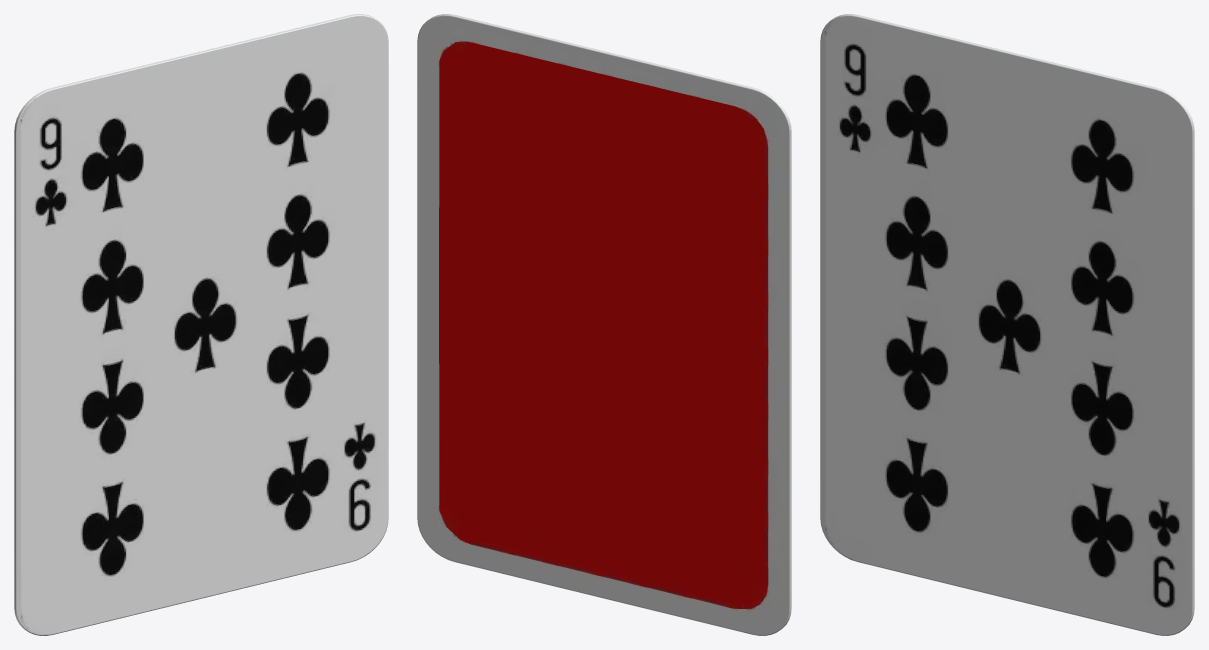
File: clubs_9-transformed.glb
The picture shows the model from 3 angles, left to right: view 1: azimuth 30°, elevation 25°; view 2: azimuth 150°, elevation 25°; view 3: azimuth 330°, elevation 25°; orthographic projection.
Parts seen in each view (by area): view 1: defaultMaterial.015; view 2: defaultMaterial.015; view 3: defaultMaterial.015.
Part boxes in pixels (x1=…): defaultMaterial.015: x1=14, y1=14, x2=388, y2=635; defaultMaterial.015: x1=417, y1=14, x2=791, y2=635; defaultMaterial.015: x1=820, y1=14, x2=1194, y2=635.
Size of the model in its own units: 0.1408 by 0.1972 by 0.00111.
Materials: 1 (1 with a texture image).
